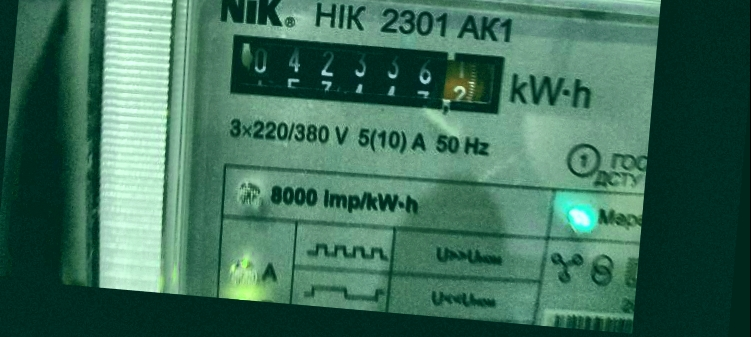0: (250, 45, 268, 74)
1: (453, 57, 467, 80)
2: (318, 47, 336, 77), (449, 82, 467, 102)
3: (382, 49, 400, 81), (350, 49, 367, 78)
4: (284, 43, 303, 73)
6: (415, 54, 435, 86)
screen: (215, 19, 517, 126)
